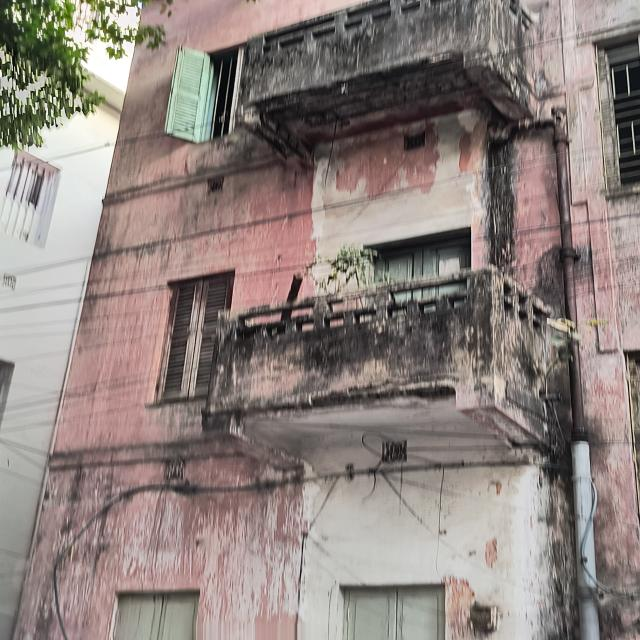Moss growth due to damping: (216, 268, 599, 457), (227, 0, 542, 166), (474, 127, 596, 341), (541, 431, 624, 640)
